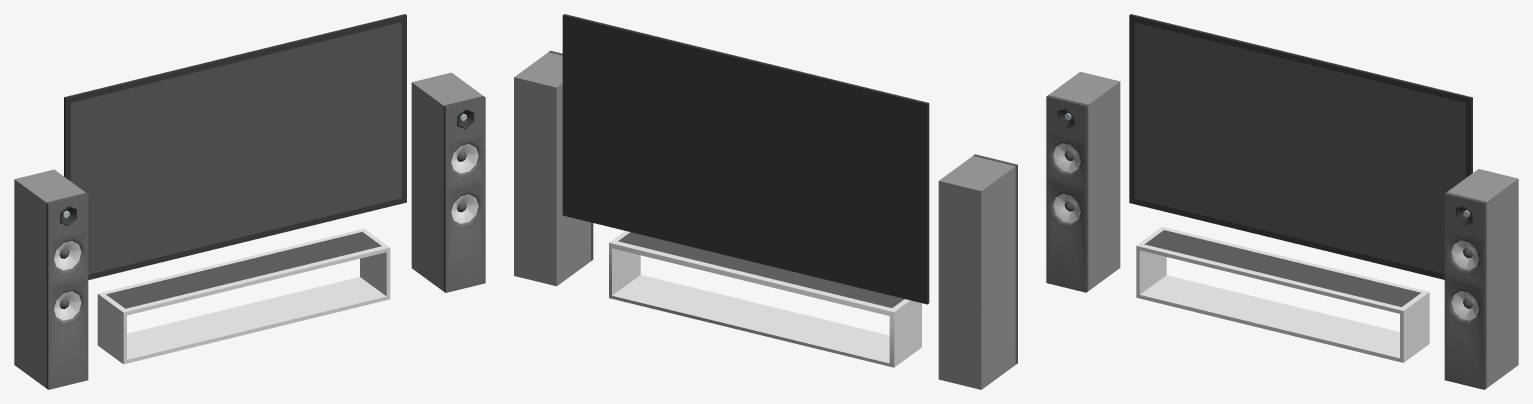
File: tv_wall.glb
3 renders of one model, left to right at view 1: azimuth 30°, elevation 25°; view 2: azimuth 150°, elevation 25°; view 3: azimuth 330°, elevation 25°, orthographic. The views are drawn at different scales.
Visible parts, largest first — view 1: tv_wall_001; view 2: tv_wall_001; view 3: tv_wall_001.
Boxes of the visible parts, left/top/right/bottom form: tv_wall_001: left=14, top=14, right=485, bottom=389; tv_wall_001: left=514, top=14, right=1017, bottom=389; tv_wall_001: left=1046, top=14, right=1518, bottom=389.
Size of the model in its own units: 3.04 by 1.69 by 0.4204.
Materials: 1 (1 with a texture image).
